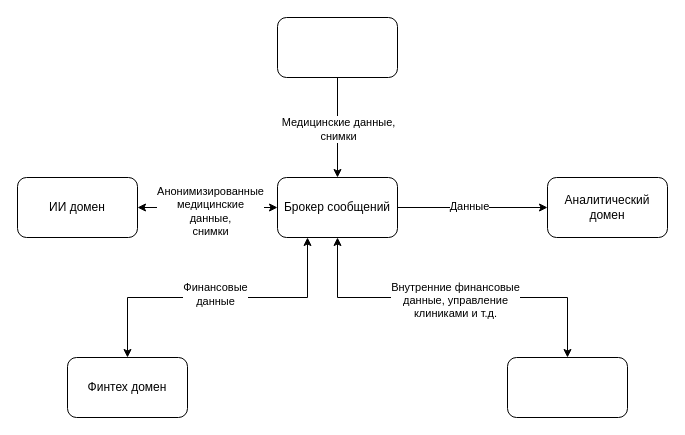
The diagram is 685 pixels wide and 435 high, and some of its shapes have lost their labels. The centre of each missing label's shape, as x and y in pixels:
Внутренний домен: (567,387)
Медицинский домен: (337,47)
